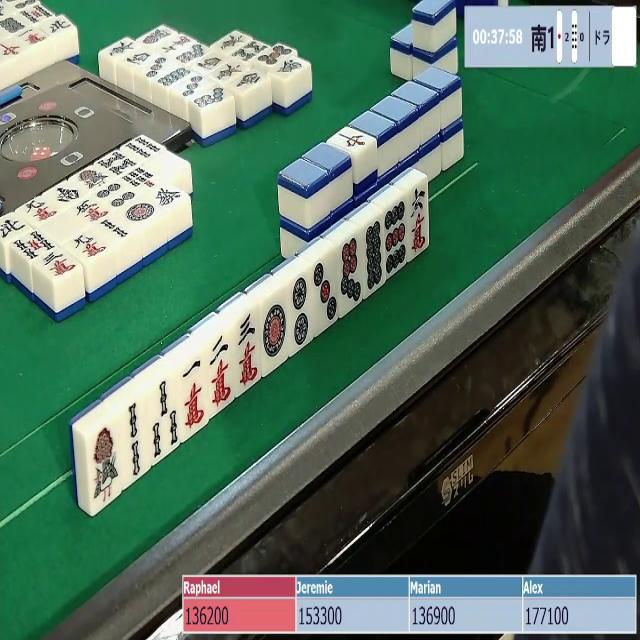1B: (85, 419, 123, 514)
1C: (176, 356, 209, 437)
1D: (259, 292, 290, 371)
2B: (123, 395, 148, 479)
2C: (209, 330, 235, 408)
2D: (287, 272, 313, 353)
3B: (149, 378, 185, 464)
3C: (235, 308, 263, 391), (35, 247, 82, 285)
3D: (310, 258, 339, 331), (142, 55, 168, 81)
6C: (408, 183, 430, 257)
7B: (120, 164, 160, 192)
7D: (338, 237, 364, 315)
8B: (94, 147, 139, 177)
8D: (361, 220, 386, 295), (155, 67, 189, 92)
9D: (381, 198, 411, 274)
RD: (335, 124, 370, 156)
SW: (46, 178, 86, 206)
